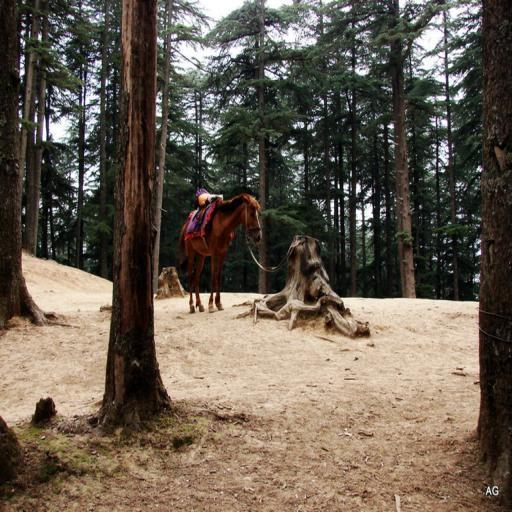horse: (178, 191, 262, 312)
